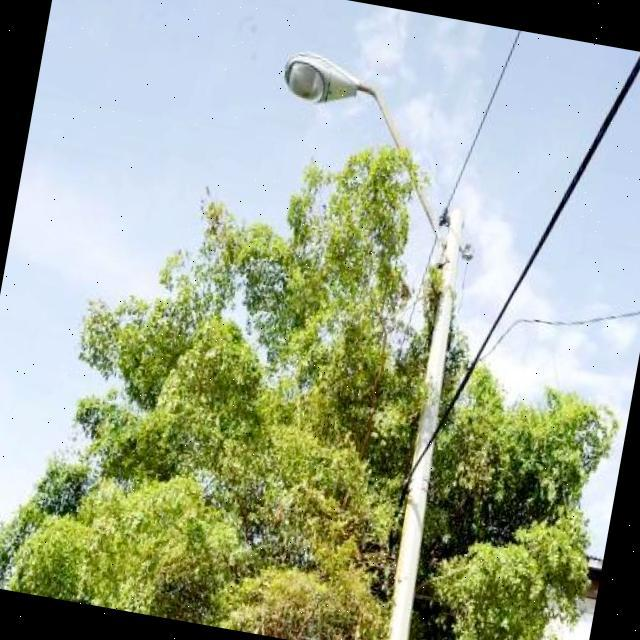critical vegetation: (306, 220, 576, 423)
